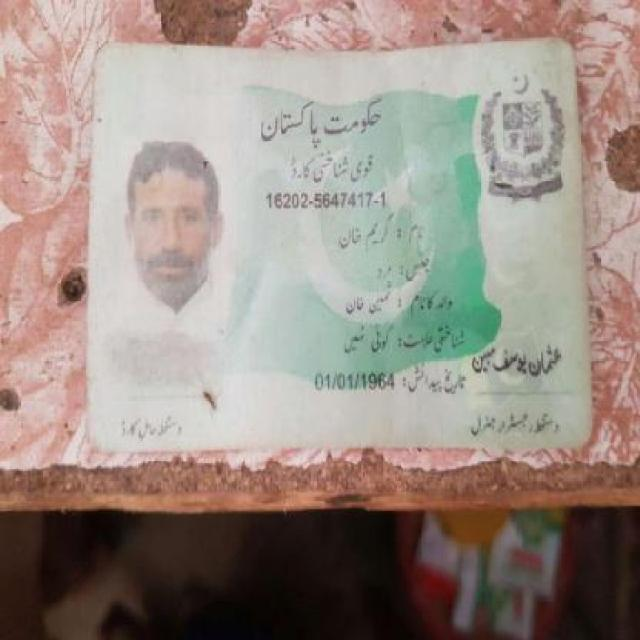Front: (83, 37, 595, 455)
